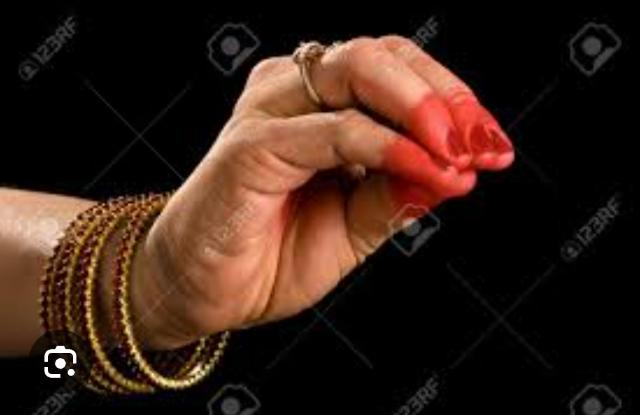mukul: (39, 34, 523, 415)
